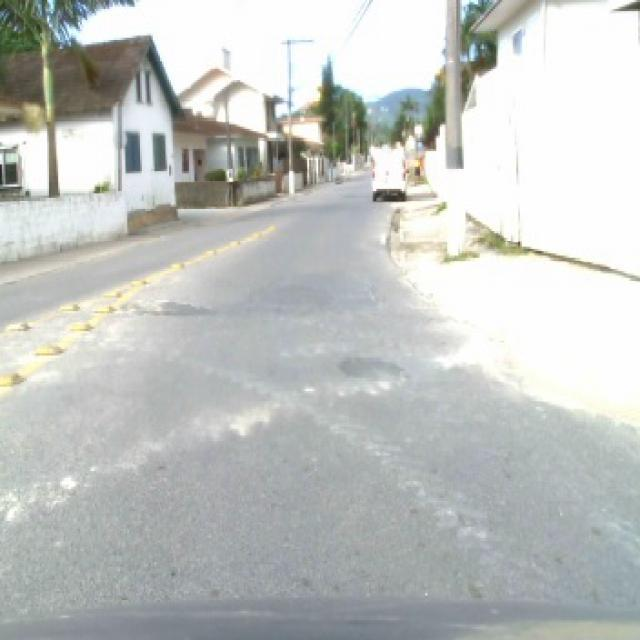Poth-hole: (0, 471, 80, 520), (436, 336, 514, 386), (225, 400, 273, 438), (111, 298, 211, 316), (364, 378, 392, 396), (33, 342, 61, 356), (0, 368, 22, 384), (3, 318, 30, 329), (69, 318, 91, 329), (100, 286, 120, 296), (56, 300, 78, 309), (92, 302, 112, 311), (167, 260, 184, 267), (129, 276, 146, 282), (202, 246, 214, 254), (302, 384, 314, 392), (229, 238, 238, 242)
